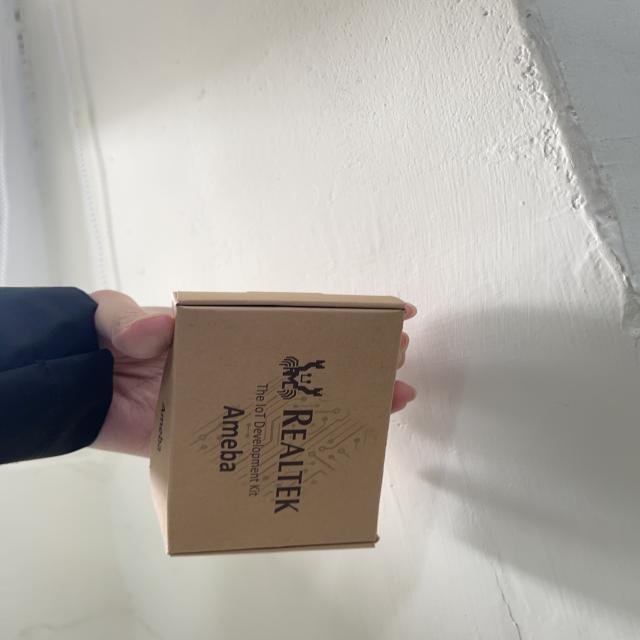box: (160, 272, 402, 560)
